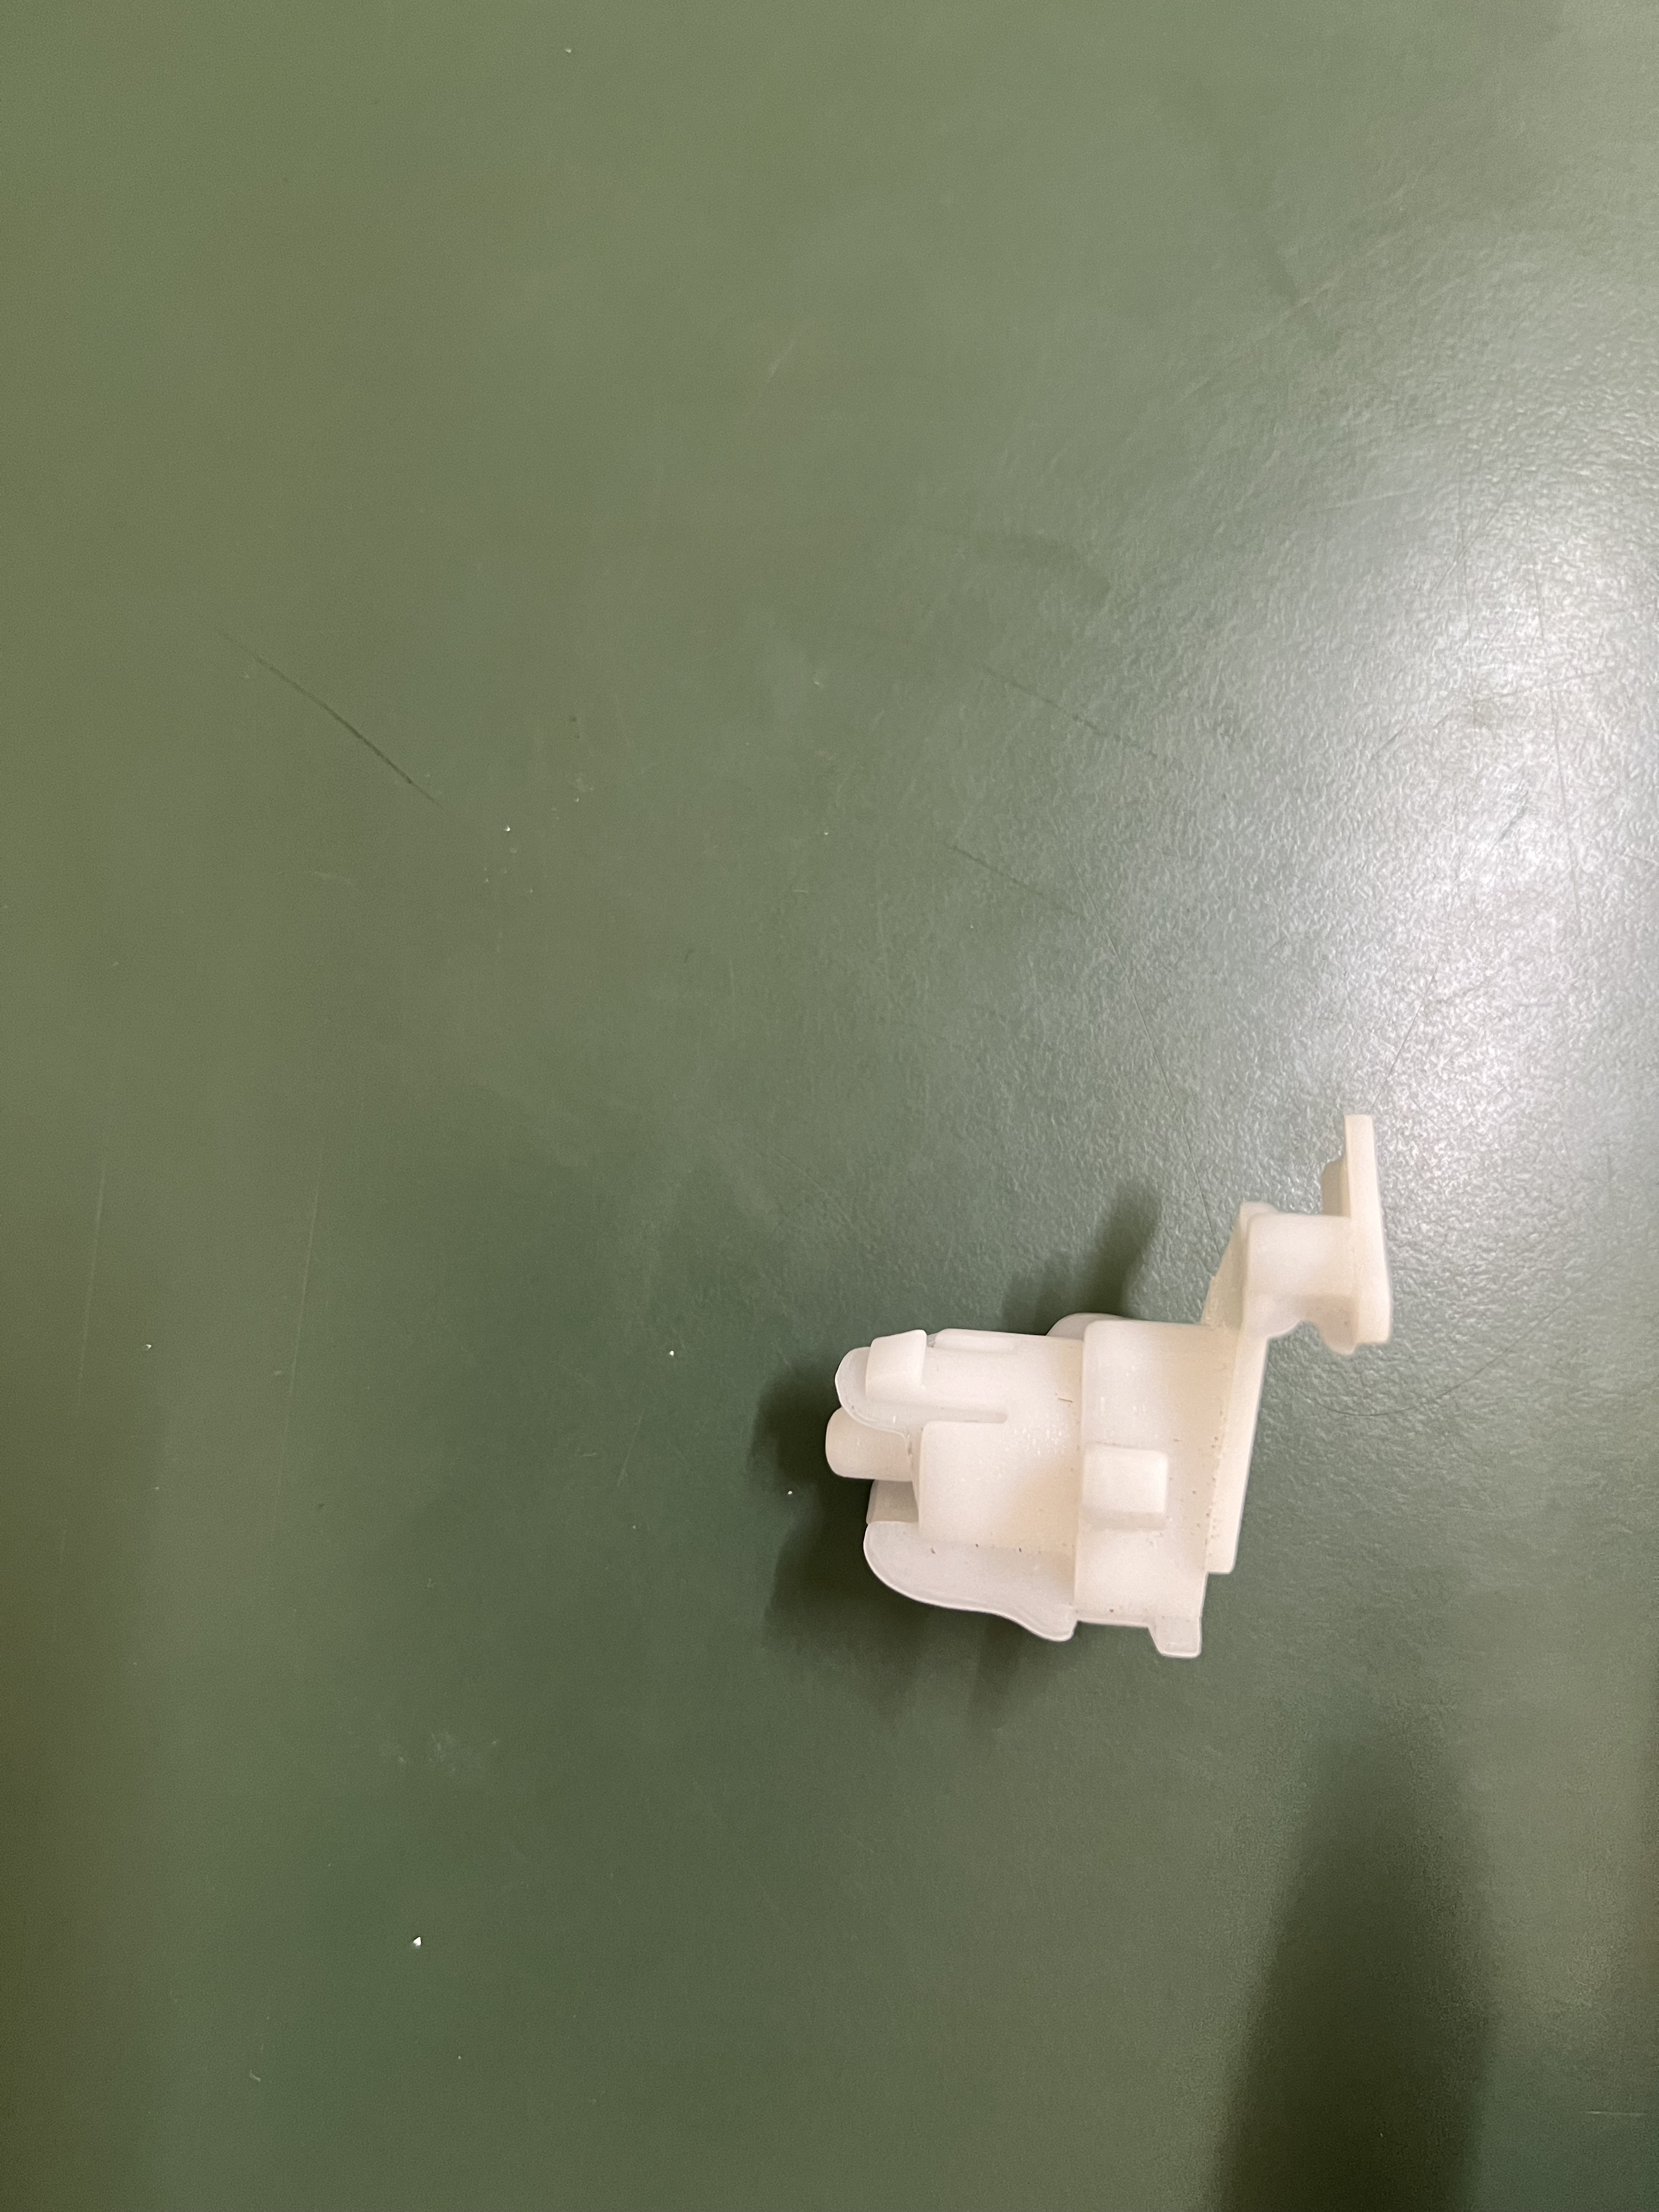drain_lever: (767, 1104, 1415, 1698)
